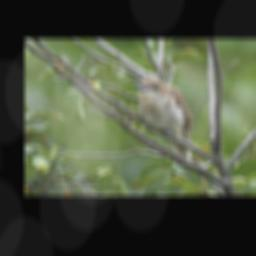Cuckoo: (133, 77, 194, 162)
